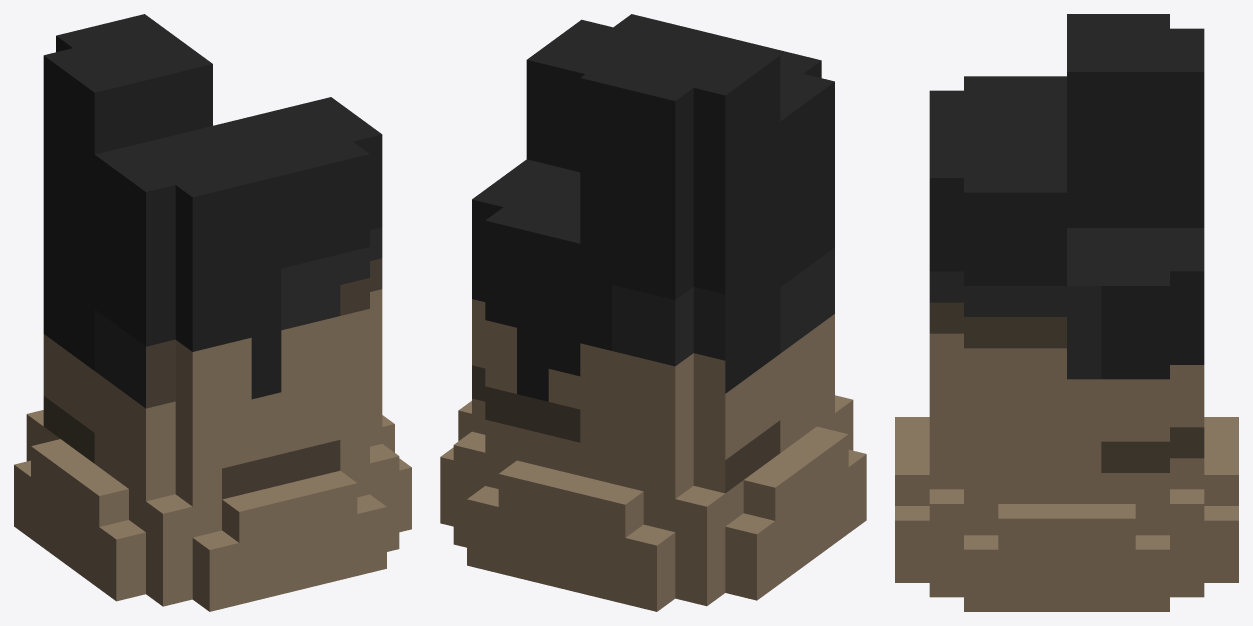
Rendered from tree_big_burned_0.fbx.
3 renders of one model, left to right at view 1: azimuth 30°, elevation 25°; view 2: azimuth 150°, elevation 25°; view 3: azimuth 270°, elevation 25°, orthographic. The views are drawn at different scales.
Parts seen in each view (by area): view 1: Grid.048; view 2: Grid.048; view 3: Grid.048.
Part boxes in pixels (left/top/right/bottom): Grid.048: left=14, top=14, right=411, bottom=611; Grid.048: left=440, top=14, right=866, bottom=611; Grid.048: left=895, top=14, right=1238, bottom=611.
Bounding box in the file's own units: 100 × 150 × 100.
